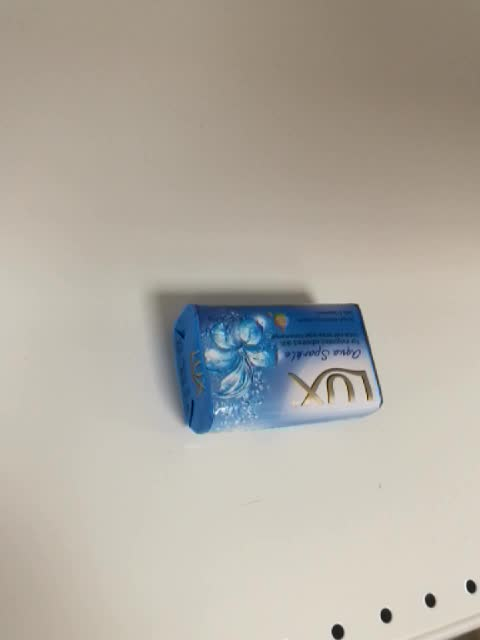soap: (171, 301, 383, 436)
